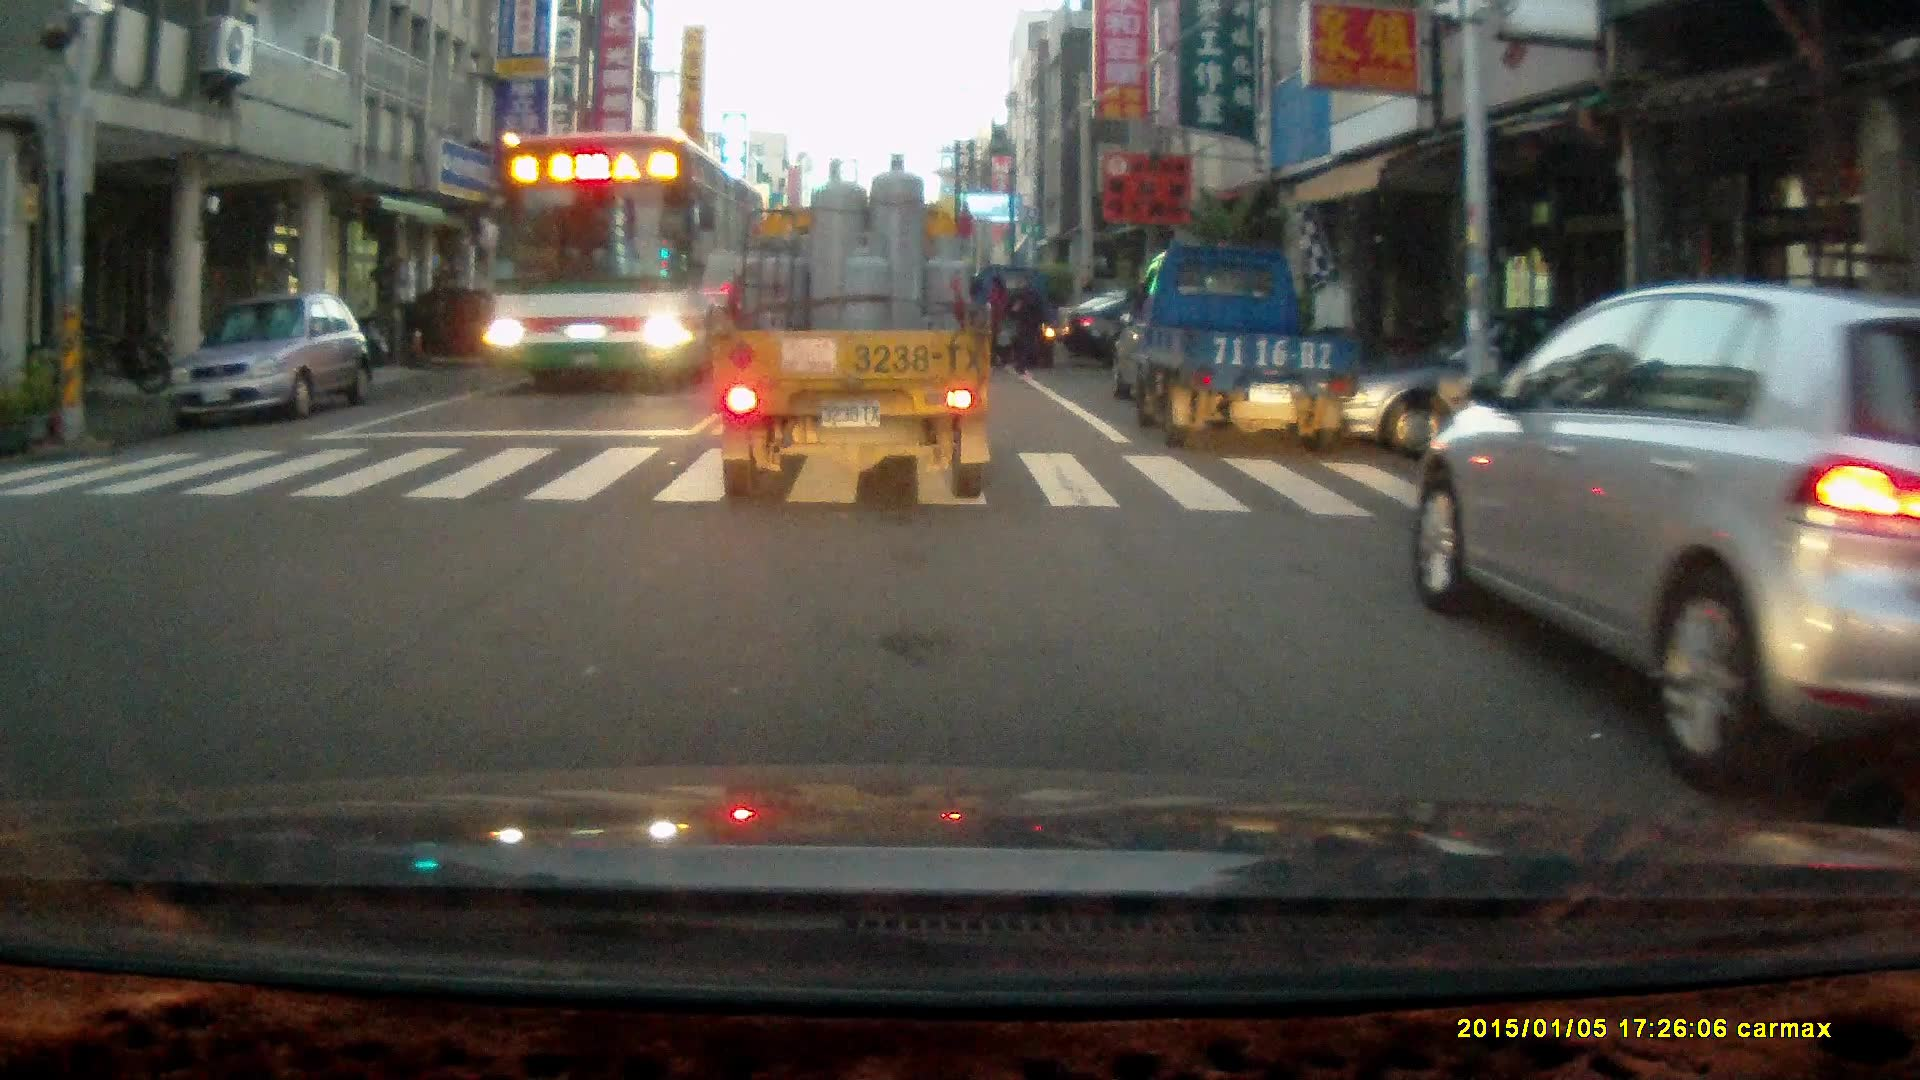pedestrian: (1003, 272, 1046, 376), (981, 275, 1009, 373)
vehicle: (1411, 282, 1920, 806), (713, 150, 999, 503), (483, 131, 761, 393), (1114, 242, 1360, 453), (1351, 316, 1649, 453), (163, 288, 373, 426), (327, 282, 545, 365), (970, 266, 1066, 376)
